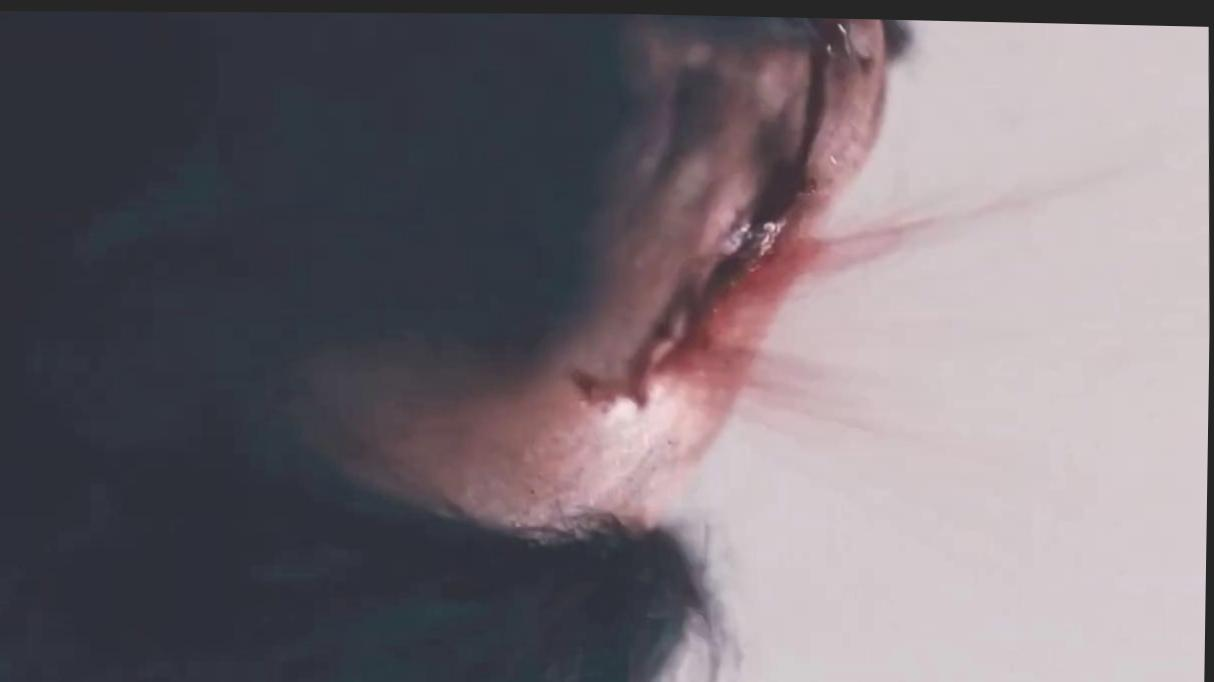Fire: (572, 36, 1067, 431), (793, 14, 874, 52)
